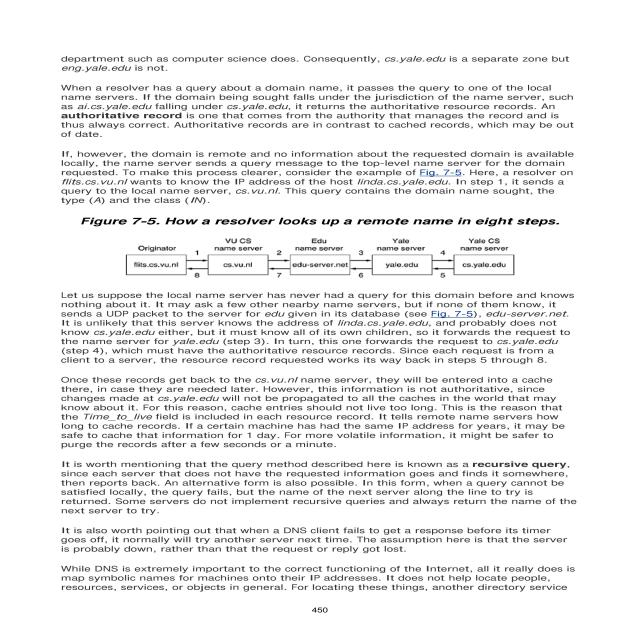diagram: (35, 211, 606, 286)
